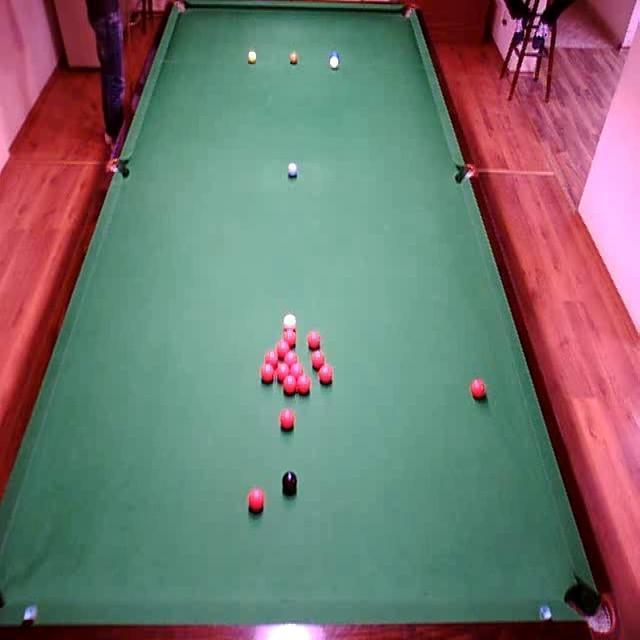Ball: (280, 471, 300, 495), (249, 489, 265, 511), (275, 361, 290, 384), (281, 329, 300, 346), (281, 374, 295, 397), (296, 372, 310, 395), (471, 381, 487, 399), (261, 363, 274, 385), (280, 410, 295, 429), (319, 363, 333, 383), (307, 329, 321, 346), (289, 363, 303, 380), (265, 350, 278, 368), (285, 351, 298, 369), (275, 340, 288, 358), (311, 352, 326, 367), (284, 312, 296, 328), (287, 164, 299, 179), (328, 58, 341, 71), (288, 51, 298, 66), (247, 50, 257, 64), (330, 53, 342, 62)
